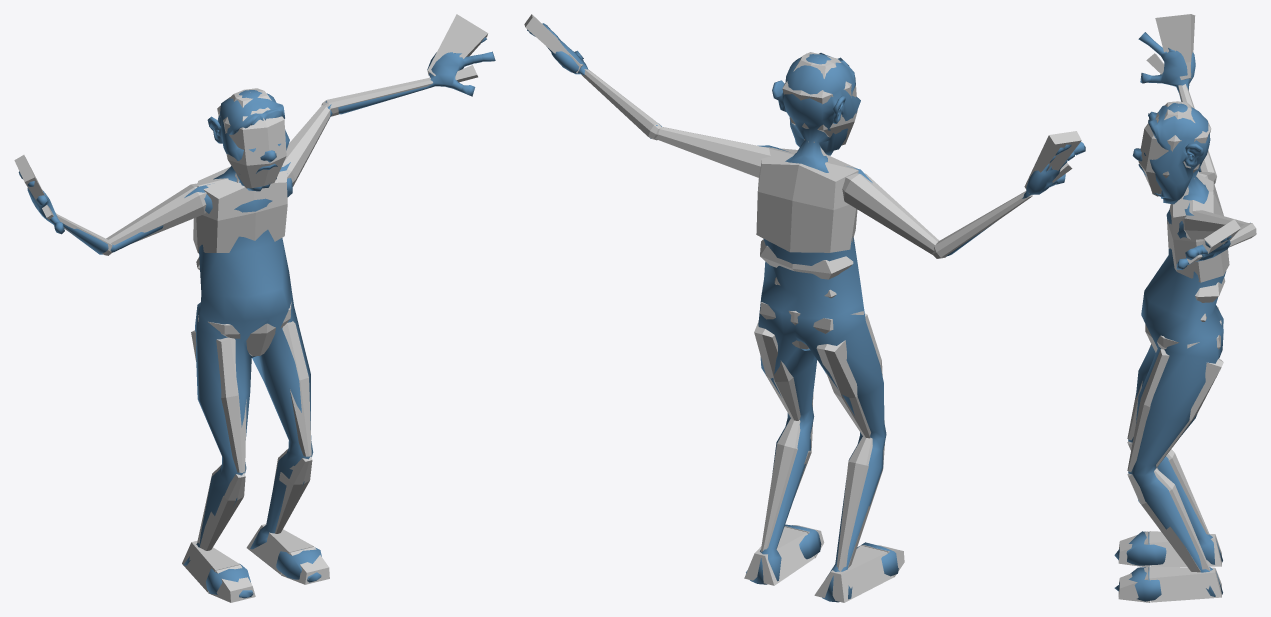
The model's file is surprised.obj.
3 views of the same model, side by side, from view 1: azimuth 30°, elevation 25°; view 2: azimuth 150°, elevation 25°; view 3: azimuth 270°, elevation 25° (orthographic). The views are drawn at different scales.
Visible parts, largest first — view 1: BodyMaquette_lowpoly_body, Ludwig_meLudwig; view 2: BodyMaquette_lowpoly_body, Ludwig_meLudwig; view 3: Ludwig_meLudwig, BodyMaquette_lowpoly_body.
Part boxes in pixels (x1=…): BodyMaquette_lowpoly_body: x1=14, y1=14, x2=487, y2=602; Ludwig_meLudwig: x1=18, y1=37, x2=495, y2=598; BodyMaquette_lowpoly_body: x1=524, y1=14, x2=1081, y2=602; Ludwig_meLudwig: x1=527, y1=23, x2=1085, y2=602; Ludwig_meLudwig: x1=1114, y1=32, x2=1250, y2=601; BodyMaquette_lowpoly_body: x1=1118, y1=14, x2=1256, y2=602.
Size of the model in its own units: 14.58 by 13.63 by 3.73.
